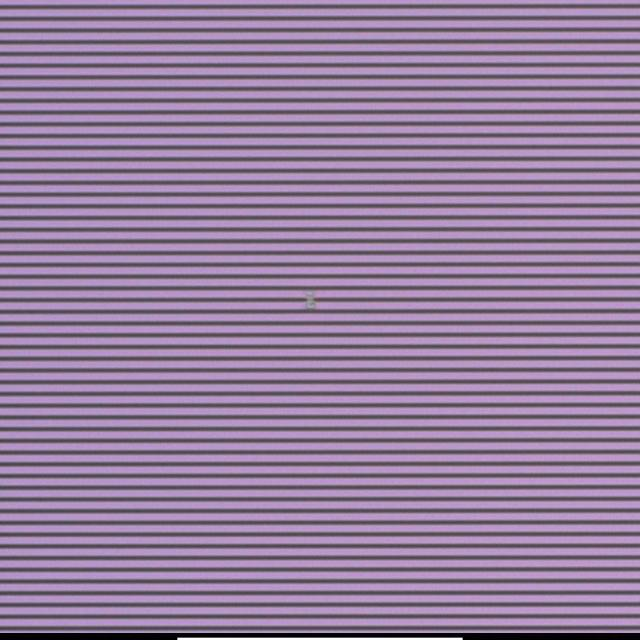03_intrusion: (305, 290, 317, 310)
